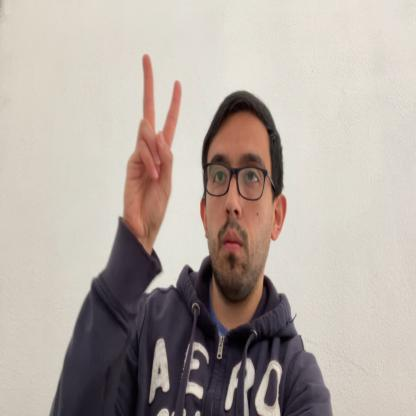V: (123, 53, 181, 239)
